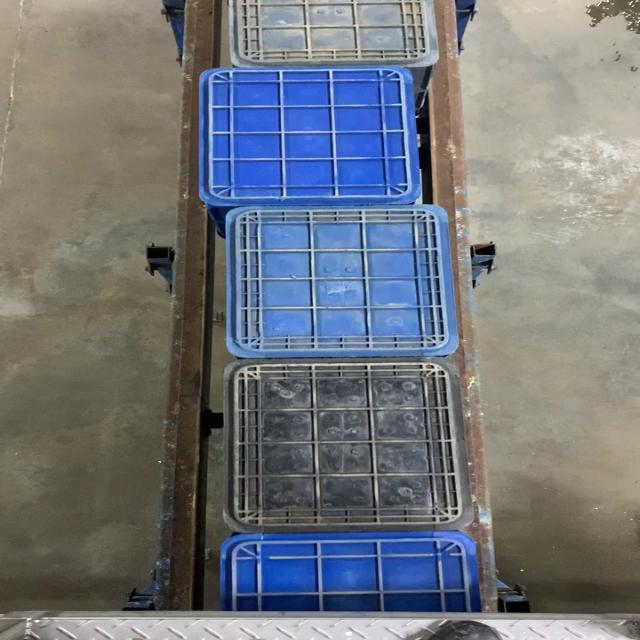Box: (218, 360, 476, 531), (220, 208, 460, 354), (194, 67, 426, 207)
